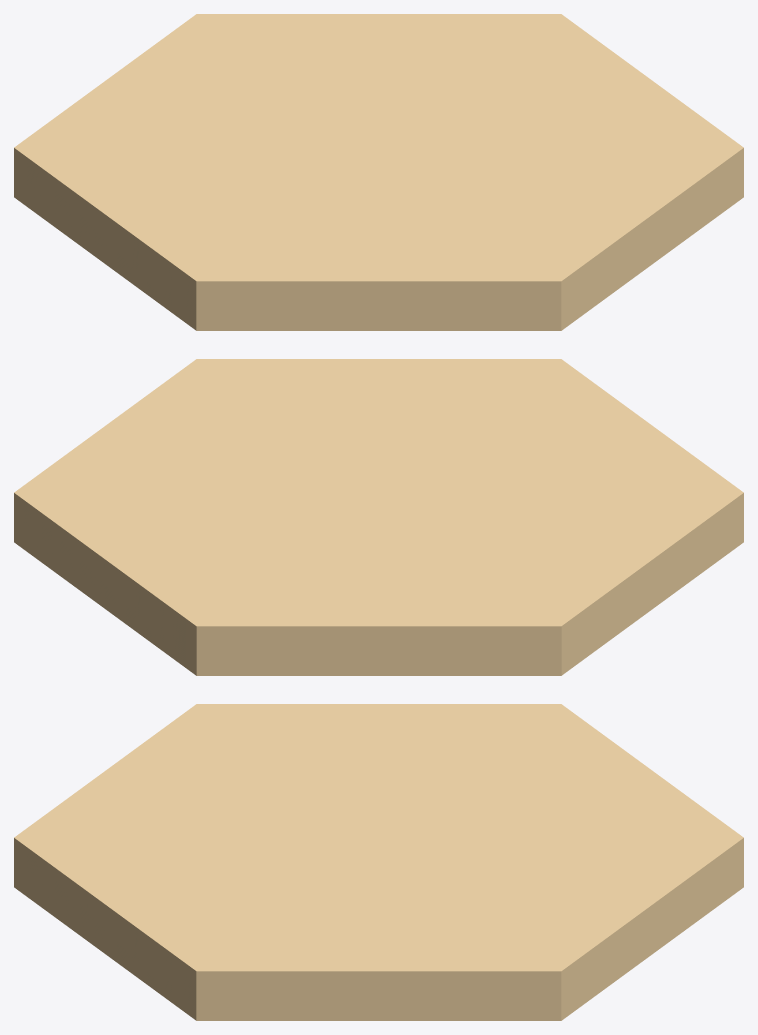
The model's file is Ground.fbx.
The picture shows the model from 3 angles, top to bottom: view 1: azimuth 30°, elevation 25°; view 2: azimuth 150°, elevation 25°; view 3: azimuth 270°, elevation 25°; orthographic projection.
Parts seen in each view (by area): view 1: Ground; view 2: Ground; view 3: Ground.
Boxes of the visible parts, bbox=[...] form: Ground: bbox=[14, 14, 743, 330]; Ground: bbox=[14, 359, 743, 675]; Ground: bbox=[14, 704, 743, 1020].
Size of the model in its own units: 173 by 15 by 200.
